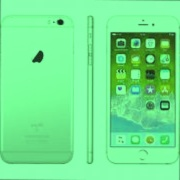iphone: (106, 15, 180, 164), (1, 15, 74, 164), (87, 15, 93, 164)
